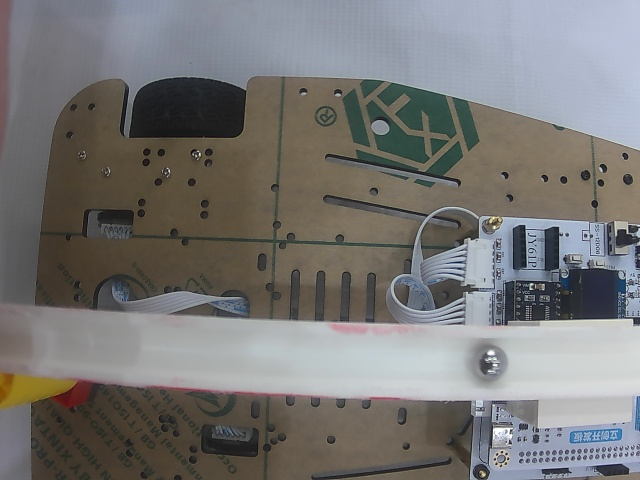steelball: (473, 344, 507, 378)
